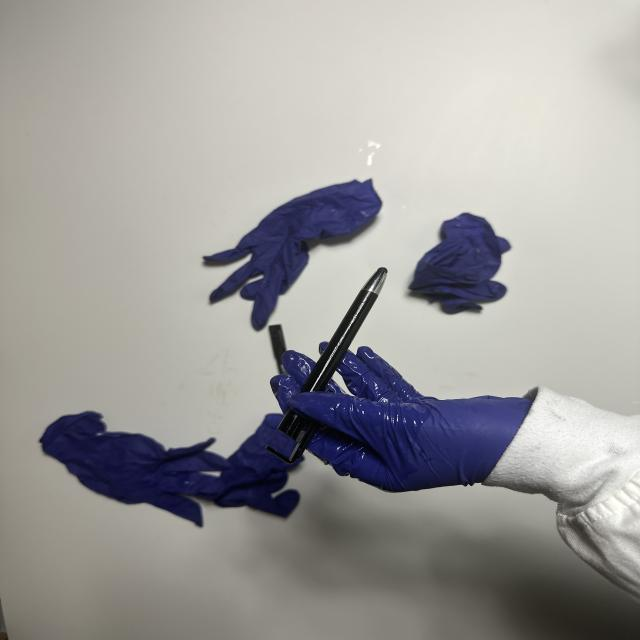gloves_contaminated: (270, 347, 532, 492)
